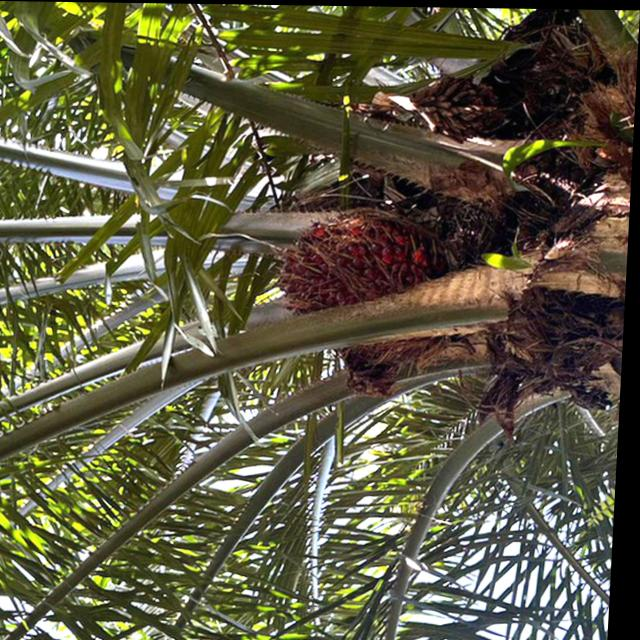ripe: (268, 207, 448, 372)
